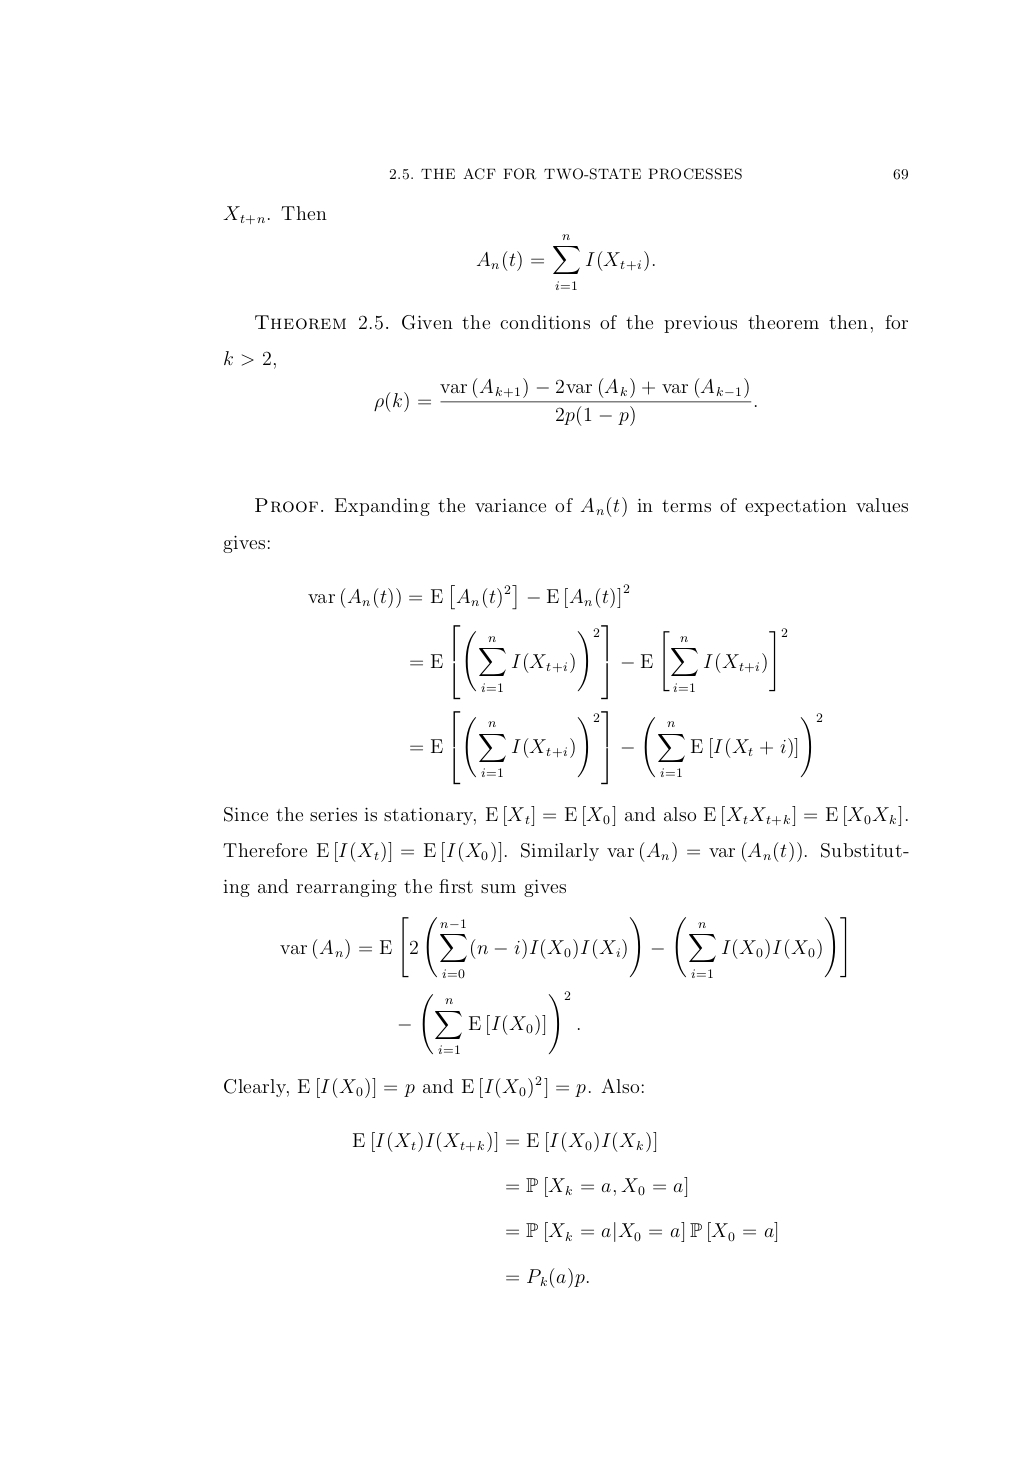formula: (280, 915, 846, 979), (409, 711, 822, 785), (409, 624, 787, 700), (374, 377, 757, 426), (398, 991, 579, 1055), (476, 234, 654, 289), (308, 583, 629, 610), (351, 1131, 656, 1152), (505, 1221, 777, 1241), (505, 1175, 687, 1197), (505, 1267, 588, 1288), (224, 350, 274, 366)
